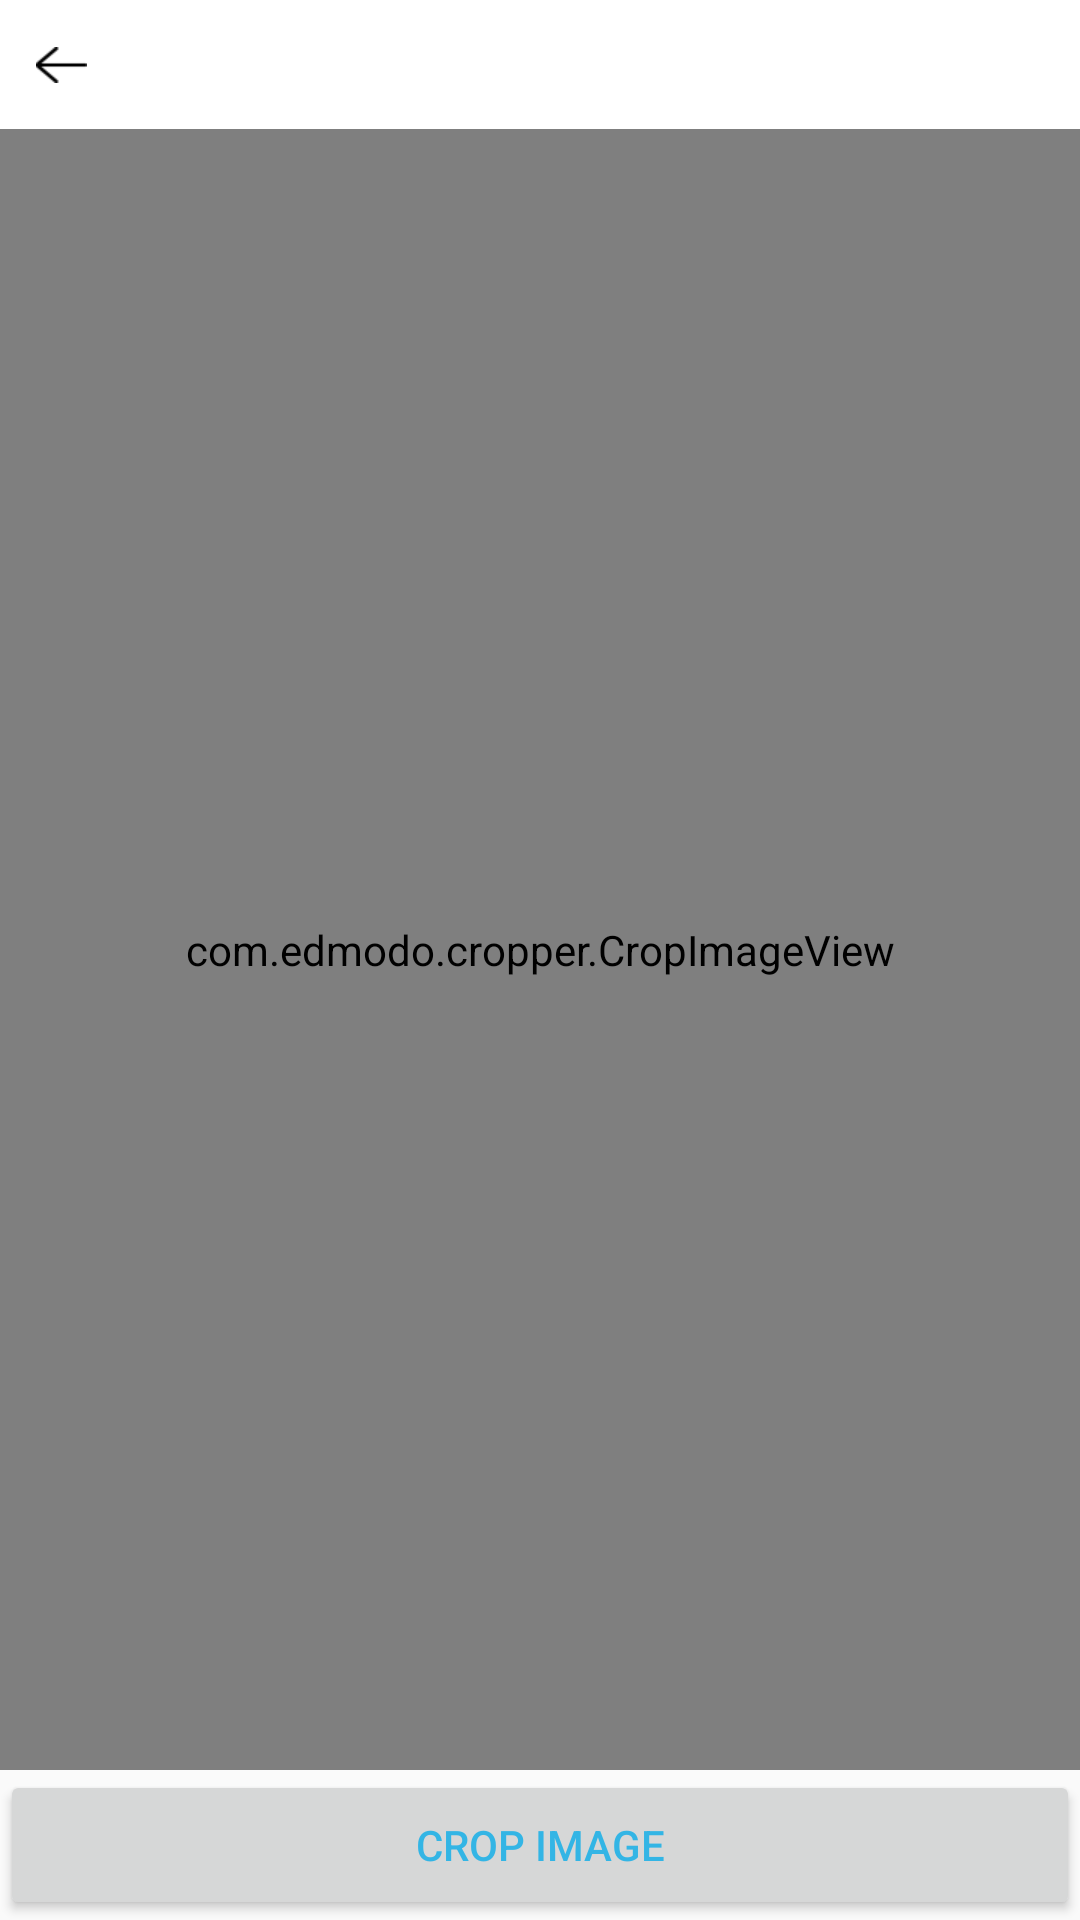

Locate icon controls on the screen. Image size 1080px×1920px, boxes as BBox(x1, y1, x2, y2).
back: BBox(36, 47, 87, 83)
